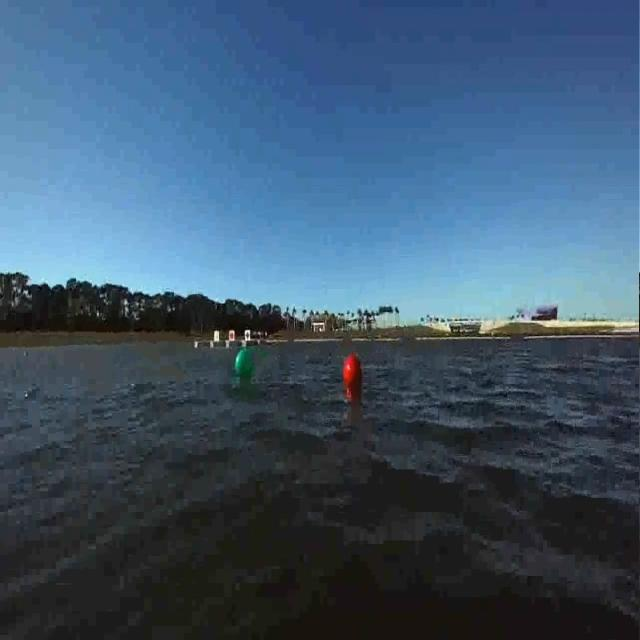green-buoy: (235, 346, 257, 378)
red-buoy: (345, 356, 362, 387)
